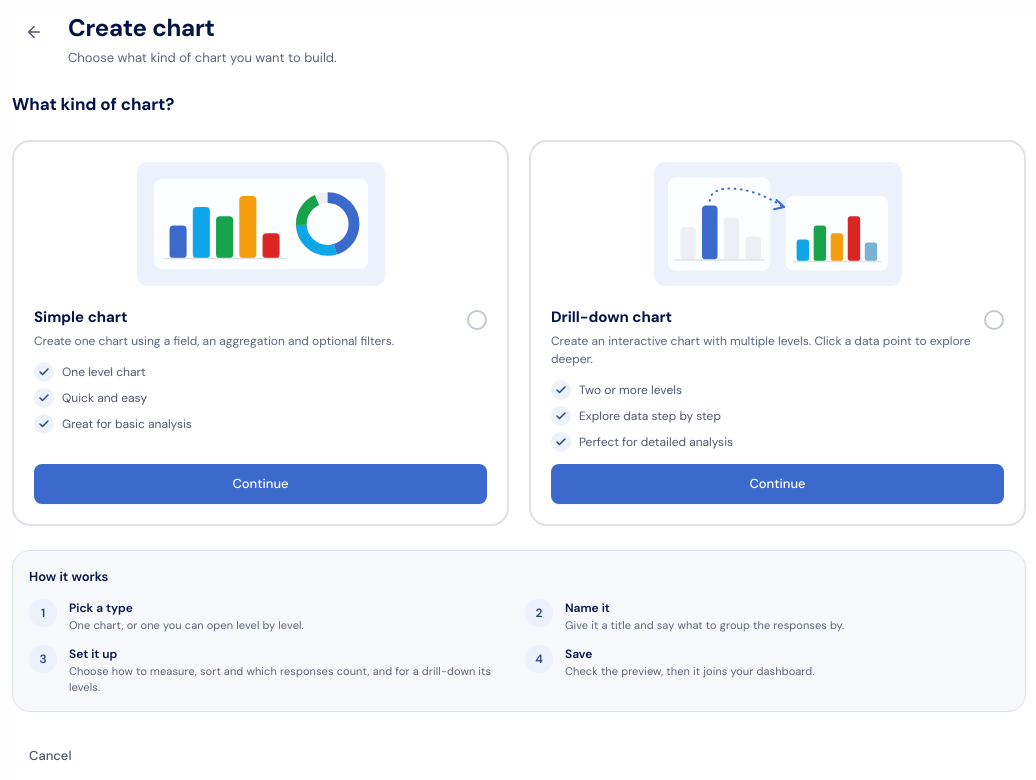
Test case: step 2: basic information › lists questions, response details and time in groups, and never text questions
The width and height of the screenshot is (1036, 780).
Expected: the radio button labelled "Simple chart" is shown, [12,140,509,526]
Click the button "Continue" below "Great for basic analysis": (260, 484) [34,464,487,504]
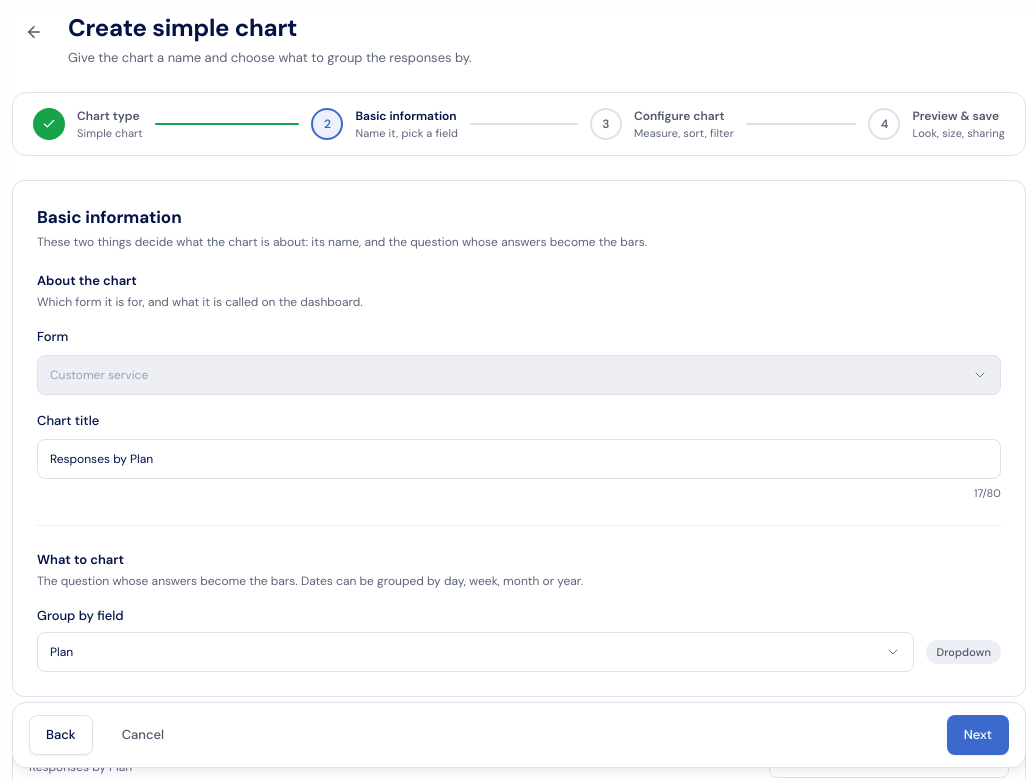
Expected: the field labelled "Chart title" is shown, [37,439,1001,479]
